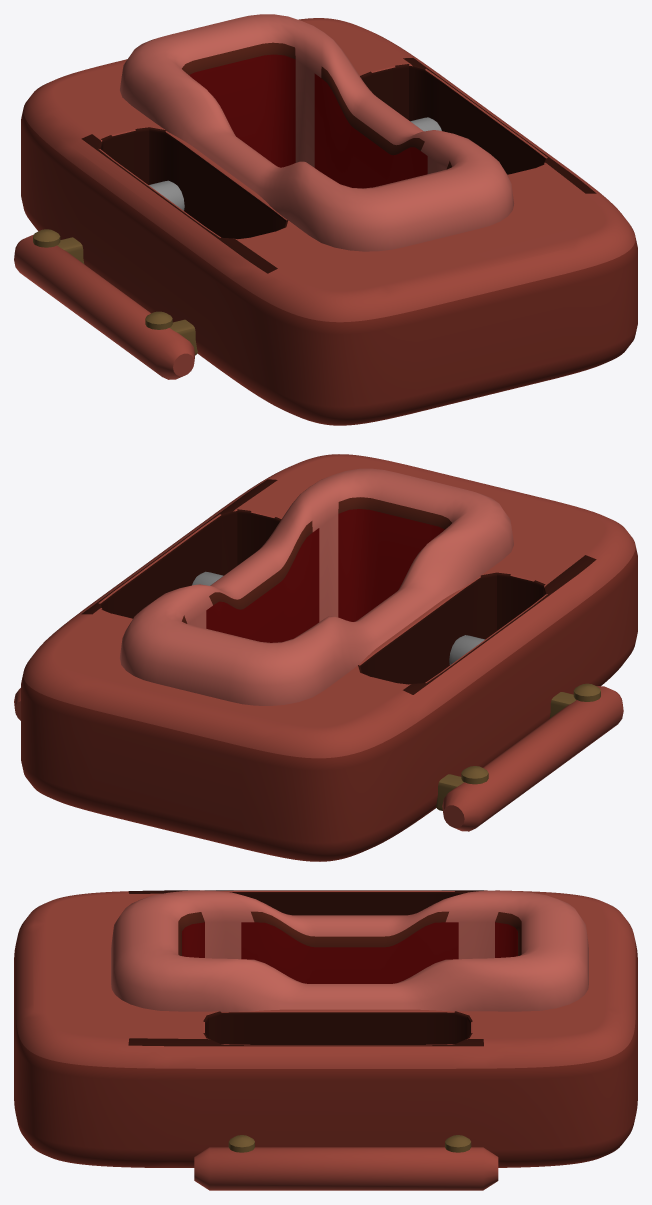
The model's file is red_furnace_271.glb.
3 views of the same model, one above another, from view 1: azimuth 30°, elevation 25°; view 2: azimuth 150°, elevation 25°; view 3: azimuth 270°, elevation 25° (orthographic). The views are drawn at different scales.
Parts seen in each view (by area): view 1: housing, rim, rail1; view 2: housing, rim, rail1; view 3: housing, rim, rail-1.
Part boxes in pixels (x1,y1,x2,y2): housing: (21,18,637,425); rim: (120,14,513,251); rail1: (14,234,195,379); housing: (21,454,637,861); rim: (119,468,513,705); rail1: (442,686,623,831); housing: (14,890,637,1167); rim: (111,890,588,1011); rail-1: (194,1147,498,1190).
Bounding box in the file's own units: 21.6 × 7.6 × 25.98.
